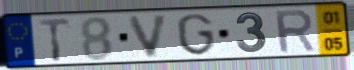3: (234, 10, 269, 56)
8: (78, 14, 116, 62)
G: (175, 12, 218, 58)
R: (273, 7, 318, 55)
T: (37, 17, 73, 63)
V: (126, 12, 172, 60)
